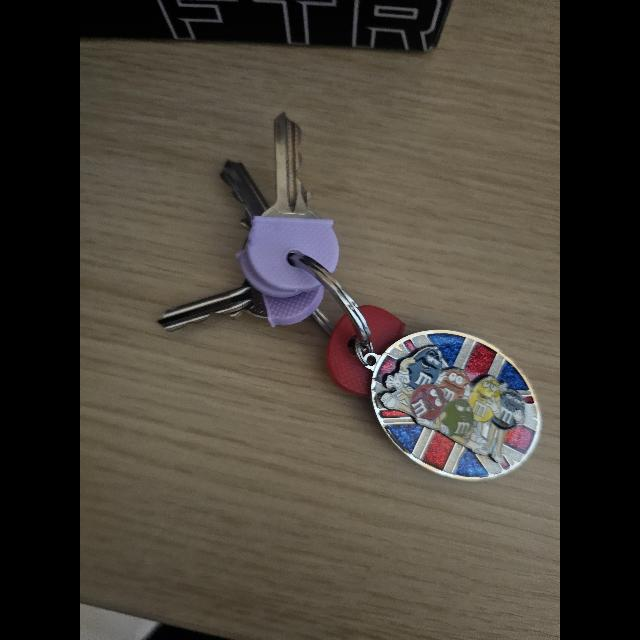Keys: (158, 113, 372, 347)
